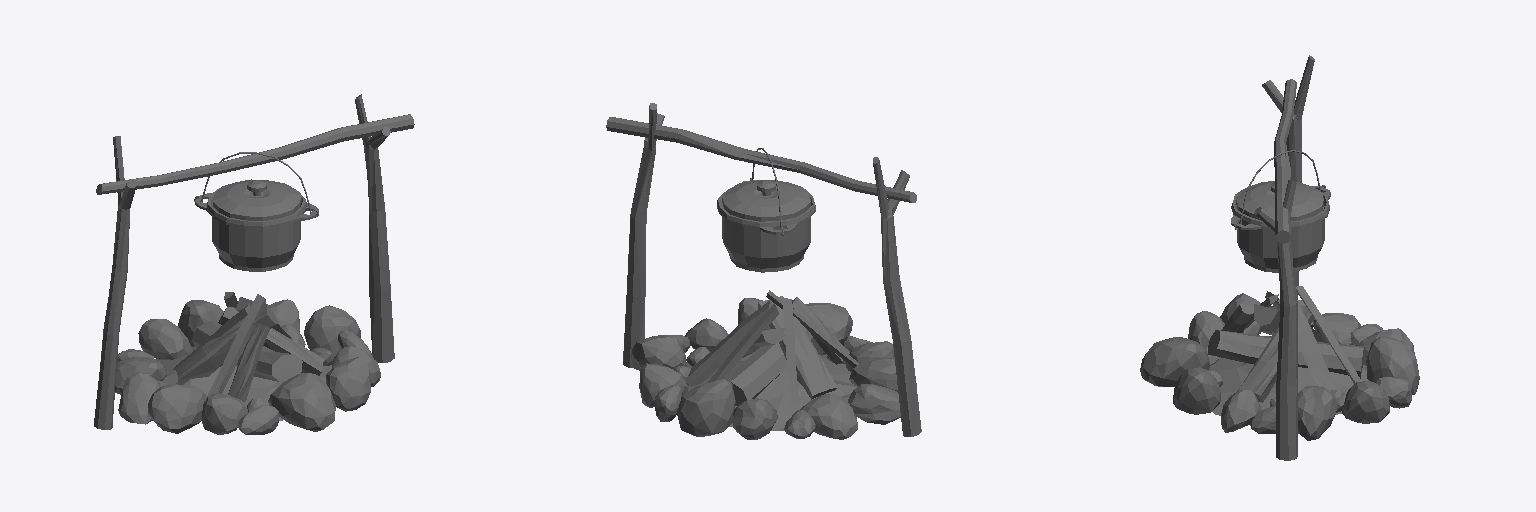
File: Campfire_blend.obj
The picture shows the model from 3 angles: view 1: azimuth 30°, elevation 25°; view 2: azimuth 150°, elevation 25°; view 3: azimuth 270°, elevation 25°; orthographic projection.
Parts seen in each view (by area): view 1: Cylinder015_Untitled.007, pillar2_Untitled.011, Pillar1_Untitled.028, crossbar_Untitled.027, Cylinder016_Untitled.025, GeoSphere010_Untitled.005, GeoSphere005_Untitled.004, half_wood_Untitled.022, GeoSphere008_Untitled.019, GeoSphere009_Untitled.016, GeoSphere002_Untitled.029, Cylinder004_Untitled.031 (+11 smaller); view 2: Pillar1_Untitled.028, Cylinder015_Untitled.007, pillar2_Untitled.011, crossbar_Untitled.027, Cylinder016_Untitled.025, rock_Untitled.002, ashes_Untitled.026, half_wood_Untitled.022, Cylinder004_Untitled.031, GeoSphere003_Untitled.009, GeoSphere017_Untitled.032, quad_wood4_Untitled.021 (+13 smaller); view 3: pillar2_Untitled.011, Cylinder015_Untitled.007, Cylinder004_Untitled.031, GeoSphere010_Untitled.005, crossbar_Untitled.027, Cylinder016_Untitled.025, ashes_Untitled.026, rock_Untitled.002, GeoSphere008_Untitled.019, GeoSphere009_Untitled.016, Pillar1_Untitled.028, GeoSphere004_Untitled.033 (+12 smaller).
Part boxes in pixels (left/top/right/bottom): Cylinder015_Untitled.007: left=194, top=188, right=318, bottom=271; pillar2_Untitled.011: left=355, top=94, right=394, bottom=362; Pillar1_Untitled.028: left=94, top=136, right=136, bottom=429; crossbar_Untitled.027: left=96, top=114, right=414, bottom=194; Cylinder016_Untitled.025: left=213, top=179, right=301, bottom=220; GeoSphere010_Untitled.005: left=268, top=373, right=335, bottom=431; GeoSphere005_Untitled.004: left=148, top=384, right=206, bottom=433; half_wood_Untitled.022: left=175, top=304, right=277, bottom=384; GeoSphere008_Untitled.019: left=326, top=357, right=370, bottom=411; GeoSphere009_Untitled.016: left=304, top=305, right=360, bottom=357; GeoSphere002_Untitled.029: left=138, top=319, right=191, bottom=359; Cylinder004_Untitled.031: left=192, top=321, right=302, bottom=381; Pillar1_Untitled.028: left=873, top=157, right=921, bottom=436; Cylinder015_Untitled.007: left=717, top=180, right=815, bottom=272; pillar2_Untitled.011: left=623, top=103, right=664, bottom=367; crossbar_Untitled.027: left=606, top=117, right=916, bottom=202; Cylinder016_Untitled.025: left=722, top=180, right=810, bottom=221; rock_Untitled.002: left=677, top=379, right=735, bottom=436; ashes_Untitled.026: left=686, top=352, right=856, bottom=430; half_wood_Untitled.022: left=758, top=296, right=837, bottom=399; Cylinder004_Untitled.031: left=724, top=325, right=812, bottom=405; GeoSphere003_Untitled.009: left=800, top=394, right=857, bottom=439; GeoSphere017_Untitled.032: left=848, top=384, right=900, bottom=424; quad_wood4_Untitled.021: left=685, top=300, right=775, bottom=386; pillar2_Untitled.011: left=1254, top=180, right=1297, bottom=460; Cylinder015_Untitled.007: left=1231, top=186, right=1330, bottom=272; Cylinder004_Untitled.031: left=1208, top=330, right=1364, bottom=378; GeoSphere010_Untitled.005: left=1140, top=337, right=1209, bottom=386; crossbar_Untitled.027: left=1274, top=79, right=1296, bottom=243; Cylinder016_Untitled.025: left=1236, top=181, right=1323, bottom=221; ashes_Untitled.026: left=1208, top=336, right=1368, bottom=415; rock_Untitled.002: left=1366, top=336, right=1419, bottom=394; GeoSphere008_Untitled.019: left=1173, top=367, right=1220, bottom=414; GeoSphere009_Untitled.016: left=1298, top=386, right=1338, bottom=440; Pillar1_Untitled.028: left=1262, top=55, right=1314, bottom=299; GeoSphere004_Untitled.033: left=1342, top=381, right=1389, bottom=423.
Bounding box in the file's own units: 1.06 × 0.9061 × 0.8216.